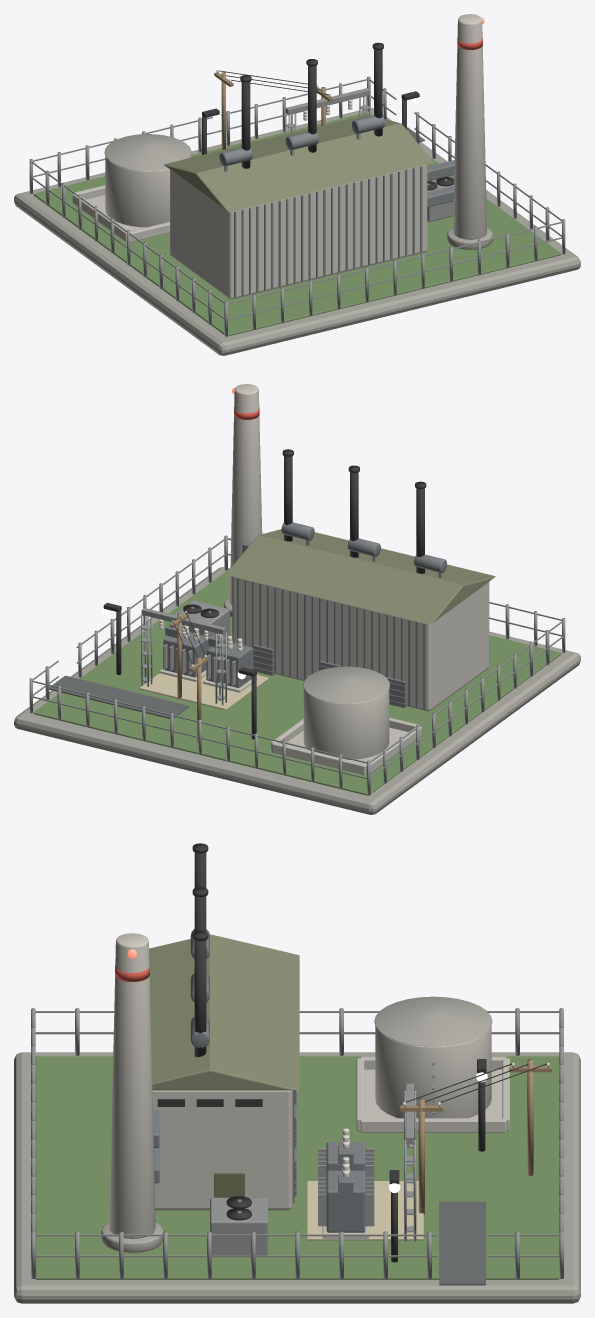
The model's file is power_5.glb.
3 renders of one model, top to bottom at view 1: azimuth 30°, elevation 25°; view 2: azimuth 150°, elevation 25°; view 3: azimuth 270°, elevation 25°, orthographic. The views are drawn at different scales.
Parts seen in each view (by area): view 1: Cube.003, Cube.001, Cube, prism, Cone, Cylinder.016, Cone.001, Cylinder.001, Cube.139, Cube.144, Cylinder.007, Cylinder.004 (+11 smaller); view 2: Cube.001, Cube.003, Cube, prism, Cylinder.016, Cone, Cone.001, Cube.002, Cube.095, Cube.085, Cube.096, Cube.109 (+8 smaller); view 3: Cube.001, Cube, prism, Cube.003, Cone, Cylinder.016, Cone.001, Cube.002, Cube.083, Cube.095, Cube.109, Cube.087 (+11 smaller).
Boxes of the visible parts, bbox=[...] form: Cube.003: bbox=[170, 164, 427, 299]; Cube.001: bbox=[33, 112, 561, 336]; Cube: bbox=[14, 108, 580, 355]; prism: bbox=[164, 114, 433, 212]; Cone: bbox=[453, 14, 486, 239]; Cylinder.016: bbox=[105, 156, 190, 227]; Cone.001: bbox=[104, 134, 191, 170]; Cylinder.001: bbox=[241, 82, 250, 168]; Cube.139: bbox=[228, 237, 562, 319]; Cube.144: bbox=[228, 221, 562, 304]; Cylinder.007: bbox=[374, 49, 382, 136]; Cylinder.004: bbox=[308, 65, 316, 152]; Cube.001: bbox=[33, 571, 561, 795]; Cube.003: bbox=[232, 576, 489, 711]; Cube: bbox=[14, 567, 580, 814]; prism: bbox=[226, 529, 495, 624]; Cylinder.016: bbox=[303, 688, 389, 759]; Cone: bbox=[229, 384, 262, 605]; Cone.001: bbox=[303, 666, 389, 703]; Cube.002: bbox=[49, 675, 189, 718]; Cube.095: bbox=[139, 673, 268, 710]; Cube.085: bbox=[272, 742, 366, 774]; Cube.096: bbox=[207, 641, 252, 687]; Cube.109: bbox=[163, 632, 209, 677]; Cube.001: bbox=[35, 1056, 559, 1279]; Cube: bbox=[14, 1052, 580, 1303]; prism: bbox=[149, 934, 299, 1090]; Cube.003: bbox=[152, 1090, 292, 1210]; Cone: bbox=[109, 933, 155, 1238]; Cylinder.016: bbox=[375, 1025, 491, 1118]; Cone.001: bbox=[374, 996, 492, 1046]; Cube.002: bbox=[439, 1201, 485, 1285]; Cube.083: bbox=[210, 1197, 268, 1255]; Cube.095: bbox=[307, 1181, 423, 1240]; Cube.109: bbox=[326, 1170, 365, 1232]; Cube.087: bbox=[360, 1118, 506, 1132].
Bounding box in the file's own units: 2.92 × 1.82 × 2.92.
